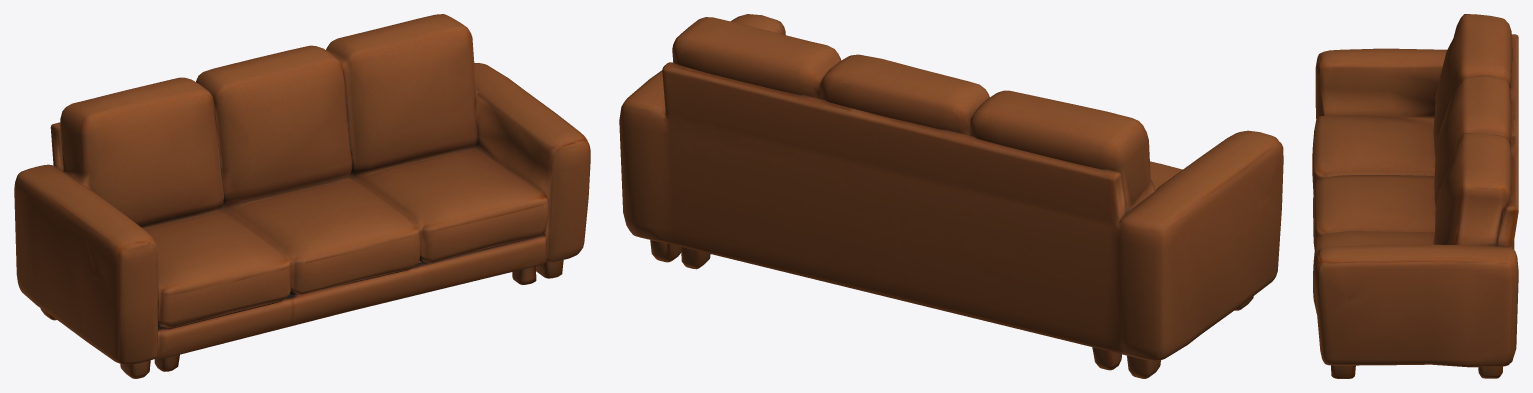
The model's file is Bank_BreakSofa.glb.
3 views of the same model, side by side, from view 1: azimuth 30°, elevation 25°; view 2: azimuth 150°, elevation 25°; view 3: azimuth 270°, elevation 25° (orthographic). The views are drawn at different scales.
Parts seen in each view (by area): view 1: tripo_node_dd6475ad-446e-4741-a672-7f0b1a57d428; view 2: tripo_node_dd6475ad-446e-4741-a672-7f0b1a57d428; view 3: tripo_node_dd6475ad-446e-4741-a672-7f0b1a57d428.
Boxes of the visible parts, <box> form: tripo_node_dd6475ad-446e-4741-a672-7f0b1a57d428: <box>14,14,590,378</box>; tripo_node_dd6475ad-446e-4741-a672-7f0b1a57d428: <box>619,14,1283,378</box>; tripo_node_dd6475ad-446e-4741-a672-7f0b1a57d428: <box>1312,14,1518,378</box>.
Bounding box in the file's own units: 1 × 0.4138 × 0.4099.
1 material, 1 textured.
